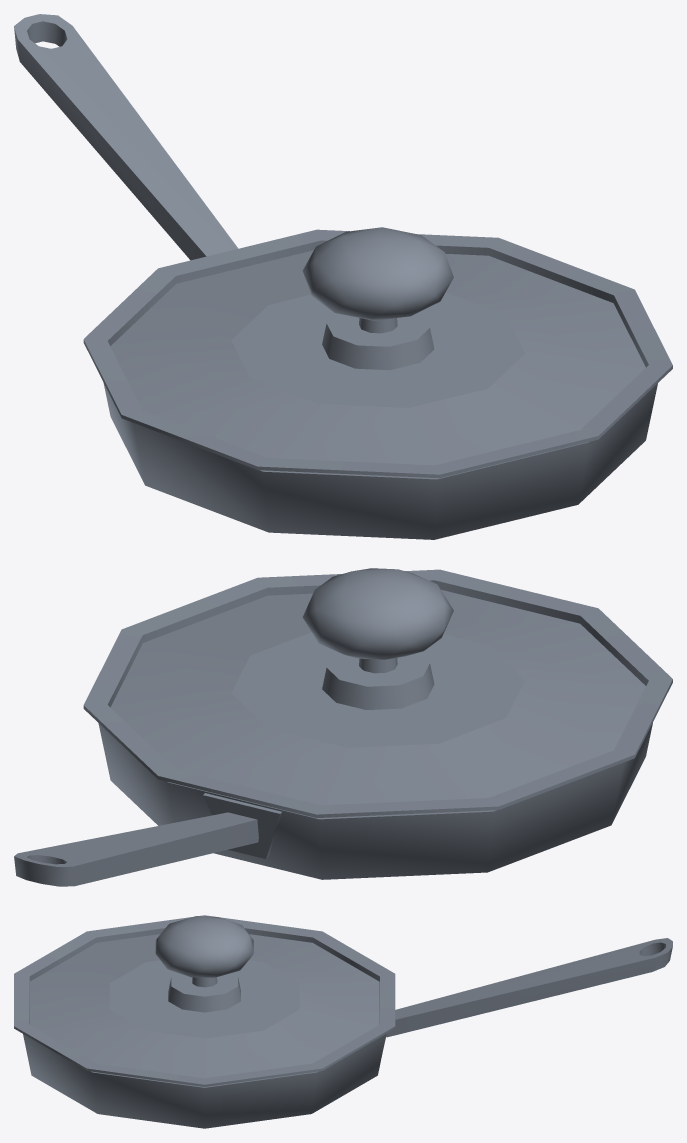
The model's file is Pan Skillet.glb.
The picture shows the model from 3 angles, top to bottom: view 1: azimuth 30°, elevation 25°; view 2: azimuth 150°, elevation 25°; view 3: azimuth 270°, elevation 25°; orthographic projection. The views are drawn at different scales.
Visible parts, largest first — view 1: pan_skillet_lid_Cylinder.092, pan_skillet_Cylinder.088; view 2: pan_skillet_lid_Cylinder.092, pan_skillet_Cylinder.088; view 3: pan_skillet_lid_Cylinder.092, pan_skillet_Cylinder.088.
Part boxes in pixels (bbox=[...]): pan_skillet_lid_Cylinder.092: bbox=[83, 227, 672, 478]; pan_skillet_Cylinder.088: bbox=[14, 14, 657, 539]; pan_skillet_lid_Cylinder.092: bbox=[83, 568, 672, 817]; pan_skillet_Cylinder.088: bbox=[14, 723, 652, 886]; pan_skillet_lid_Cylinder.092: bbox=[14, 915, 395, 1086]; pan_skillet_Cylinder.088: bbox=[23, 938, 672, 1128].
Bounding box in the file's own units: 7.1 × 2.73 × 11.67.
Materials: 1 (1 with a texture image).
